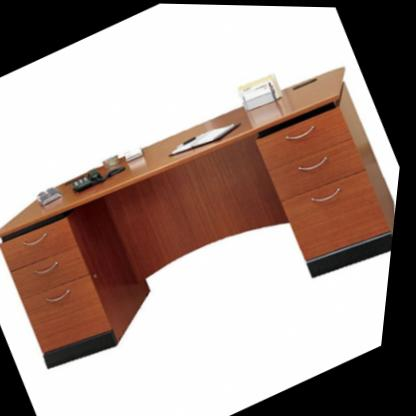Table: (0, 34, 413, 416)
